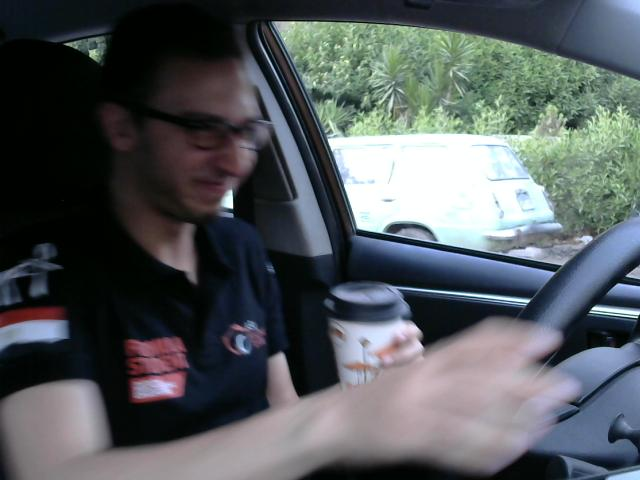Drinking: (316, 279, 425, 397)
